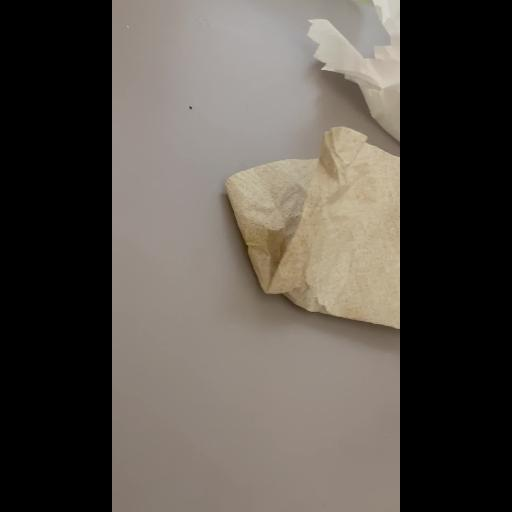napkin: (218, 112, 400, 364)
